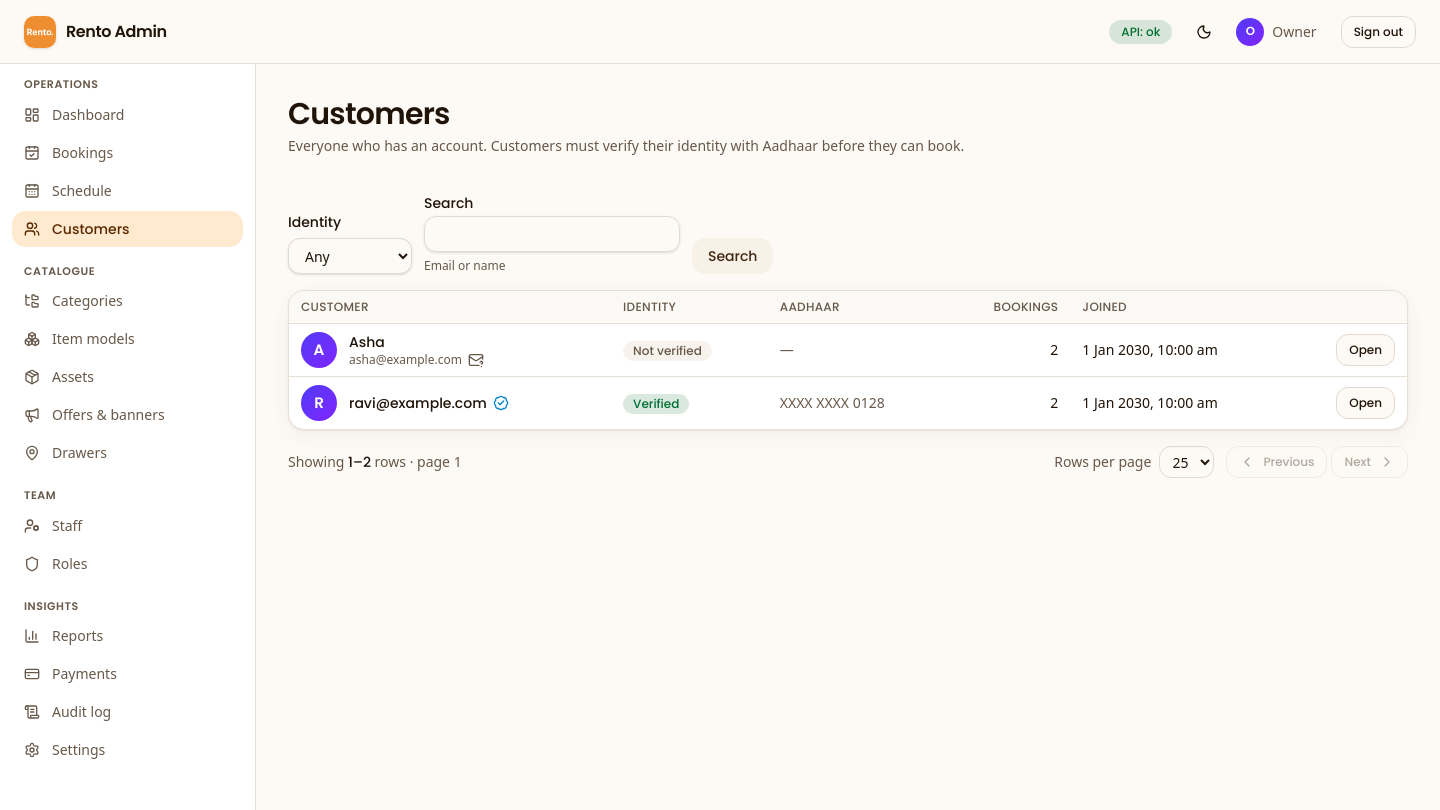
it: customers › U-07 only the sensible decisions are offered for each state
Click the button with aria-label "Open asha@example.com": (1366, 350) [1336,334,1395,366]
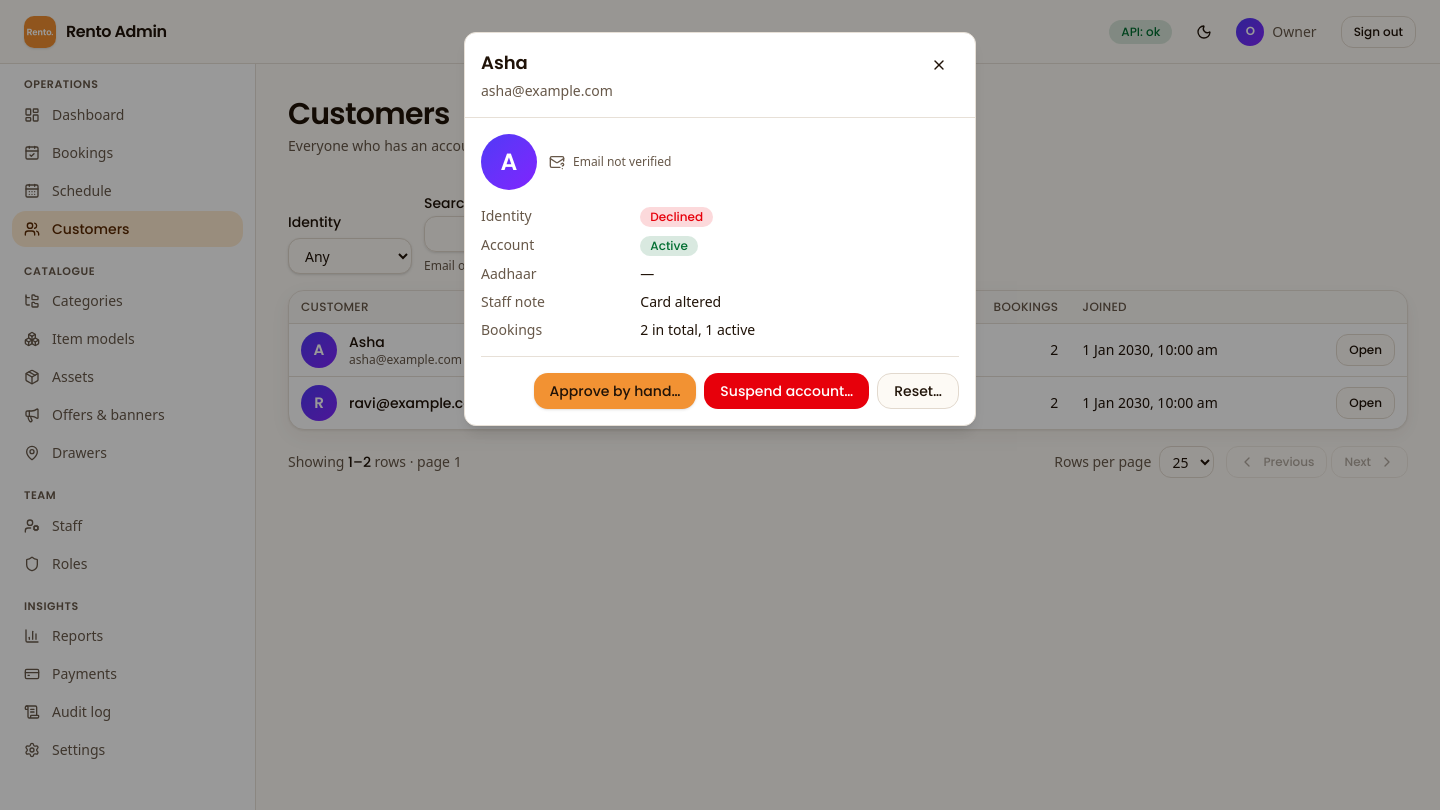
Now the text "Card altered" is shown, box [640,292,721,311]
Now the button "Approve by hand…" is shown, box [534,373,696,409]
Now the button "Reset…" is shown, box [877,373,959,409]
